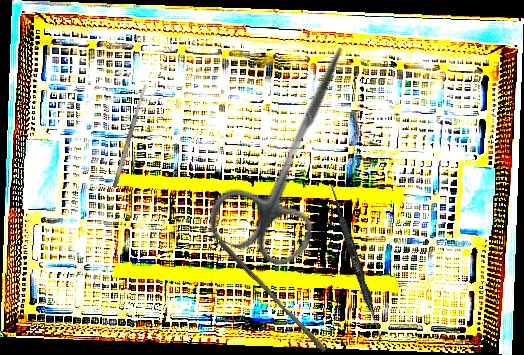Iris Scissors: (201, 25, 384, 274)
Pusher: (213, 238, 331, 354)
Spatula Surgical: (325, 185, 388, 343), (111, 83, 149, 189)
